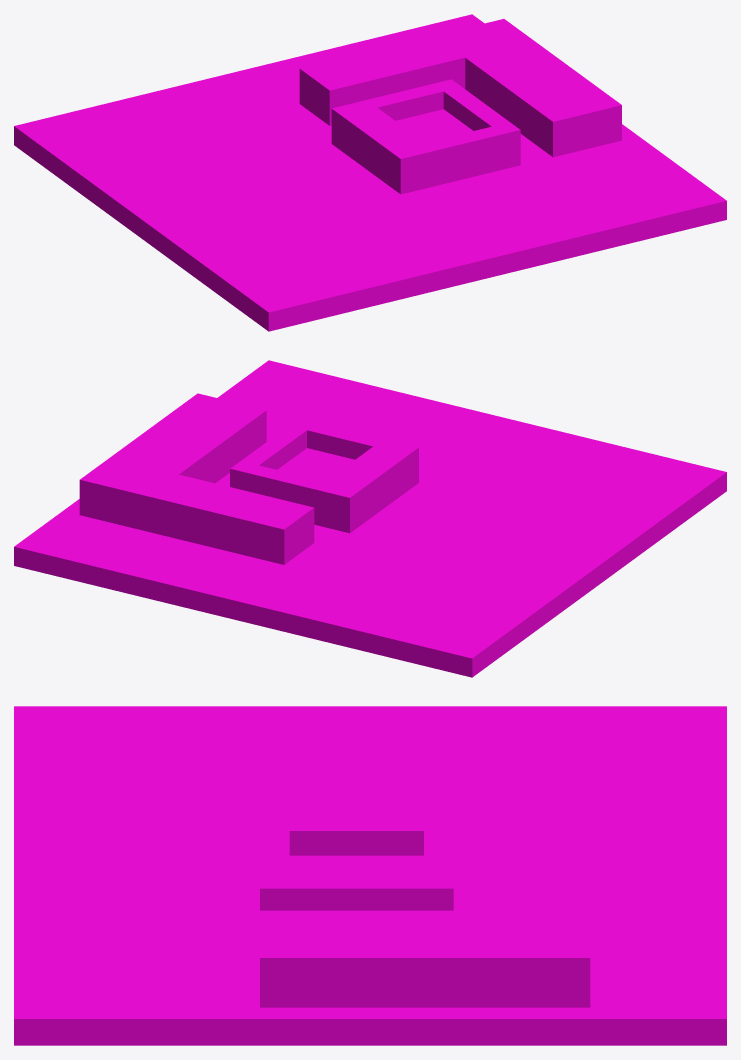
The picture shows the model from 3 angles, top to bottom: view 1: azimuth 30°, elevation 25°; view 2: azimuth 150°, elevation 25°; view 3: azimuth 270°, elevation 25°; orthographic projection. The views are drawn at different scales.
Parts seen in each view (by area): view 1: col_roof_04, col_roof_13, col_block_13, col_roof_16, col_roof_08, col_roof_15, col_roof_06, col_block_39, col_block_104, col_block_130, col_block_78, col_block_65 (+132 smaller); view 2: col_roof_05, col_block_01, col_roof_01, col_roof_14, col_roof_12, col_roof_07, col_roof_11, col_roof_09, col_block_105, col_block_118, col_block_27, col_block_53 (+135 smaller); view 3: col_roof_36, col_roof_35, col_roof_37, col_roof_34, col_roof_38, col_block_170, col_block_181, col_block_180, col_block_182, col_block_171, col_block_179, col_block_178 (+177 smaller).
Part boxes in pixels (<box>): col_roof_04: <box>391,143,435,194</box>; col_roof_13: <box>543,106,586,157</box>; col_block_13: <box>248,289,303,331</box>; col_roof_16: <box>310,68,364,109</box>; col_roof_08: <box>458,126,503,177</box>; col_roof_15: <box>577,98,621,148</box>; col_roof_06: <box>424,135,469,185</box>; col_block_39: <box>316,272,371,314</box>; col_block_104: <box>486,232,540,273</box>; col_block_130: <box>554,215,608,256</box>; col_block_78: <box>419,248,473,290</box>; col_block_65: <box>385,256,439,297</box>; col_roof_05: <box>249,514,294,564</box>; col_block_01: <box>437,635,492,677</box>; col_roof_01: <box>331,479,369,533</box>; col_roof_14: <box>79,472,124,523</box>; col_roof_12: <box>113,481,157,531</box>; col_roof_07: <box>215,505,259,556</box>; col_roof_11: <box>147,489,190,539</box>; col_roof_09: <box>181,497,224,547</box>; col_block_105: <box>166,569,220,611</box>; col_block_118: <box>132,561,187,602</box>; col_block_27: <box>369,619,423,660</box>; col_block_53: <box>301,602,355,643</box>; col_roof_36: <box>396,934,453,984</box>; col_roof_35: <box>451,934,508,984</box>; col_roof_37: <box>342,934,398,984</box>; col_roof_34: <box>506,934,562,984</box>; col_roof_38: <box>287,934,344,984</box>; col_block_170: <box>670,1006,726,1045</box>; col_block_181: <box>68,1006,125,1045</box>; col_block_180: <box>123,1006,180,1045</box>; col_block_182: <box>14,1006,70,1045</box>; col_block_171: <box>615,1006,672,1045</box>; col_block_179: <box>178,1006,234,1045</box>; col_block_178: <box>232,1006,289,1045</box>.
Bounding box in the file's own units: 189 × 21.46 × 182.
